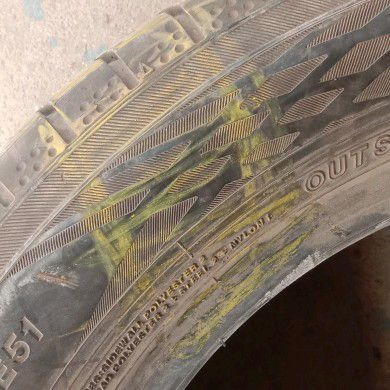CBU: (141, 101, 246, 217)
